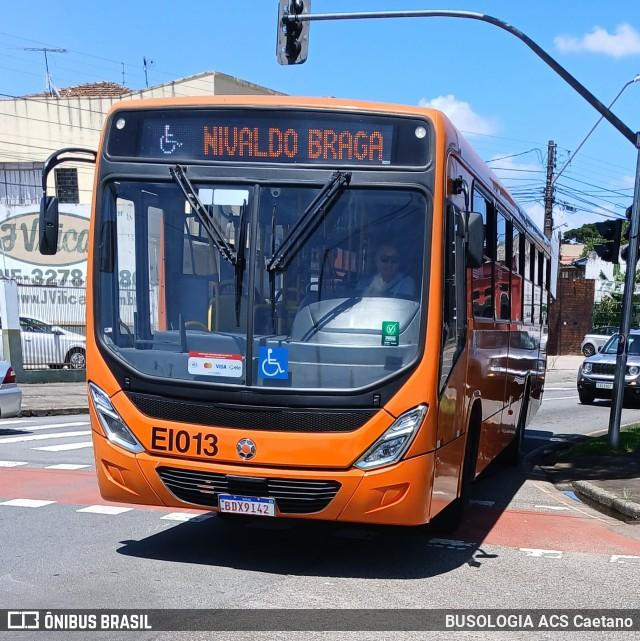NIVALDO BRAGA: (196, 121, 393, 164)
